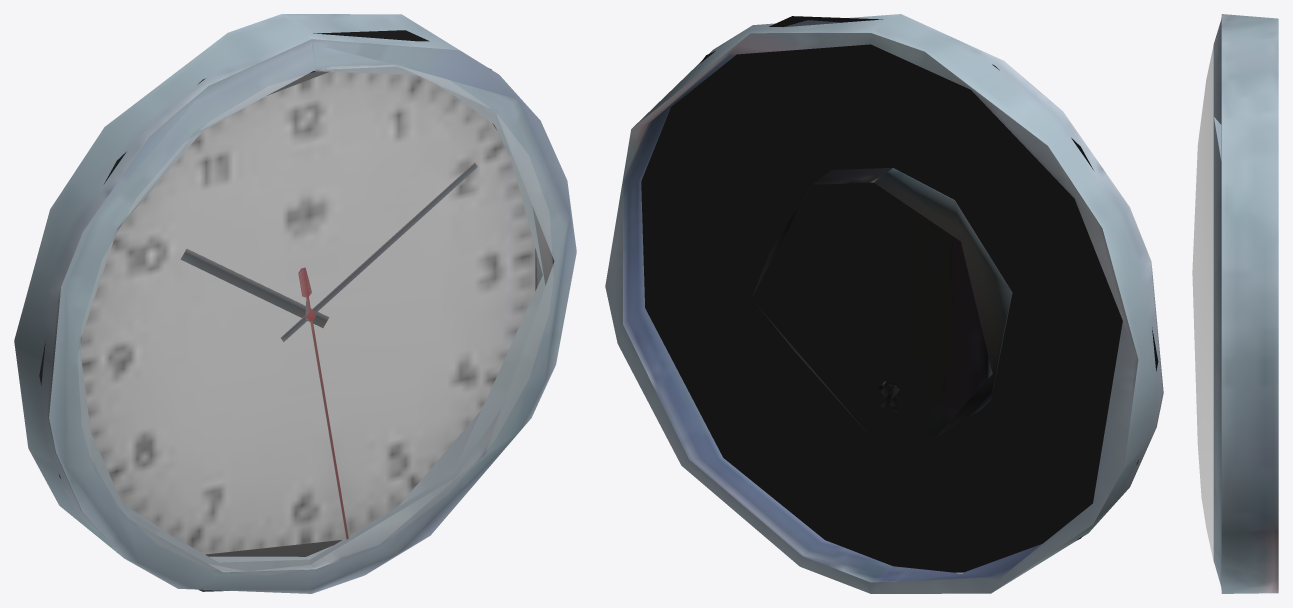
File: wallClock_lo.glb
3 views of the same model, side by side, from view 1: azimuth 30°, elevation 25°; view 2: azimuth 150°, elevation 25°; view 3: azimuth 270°, elevation 25° (orthographic). The views are drawn at different scales.
Parts seen in each view (by area): view 1: wall_clock, wall_clock_hours_hand, wall_clock_minute_hand, wall_clock_second_hand; view 2: wall_clock; view 3: wall_clock.
Part boxes in pixels (x1,y1,x2,y2): wall_clock: [14, 14, 576, 593]; wall_clock_hours_hand: [181, 249, 328, 327]; wall_clock_minute_hand: [281, 163, 477, 341]; wall_clock_second_hand: [298, 267, 348, 539]; wall_clock: [605, 14, 1163, 593]; wall_clock: [1192, 14, 1278, 593].
Bounding box in the file's own units: 0.3187 × 0.3205 × 0.0471.
Materials: 2 (1 with a texture image).
